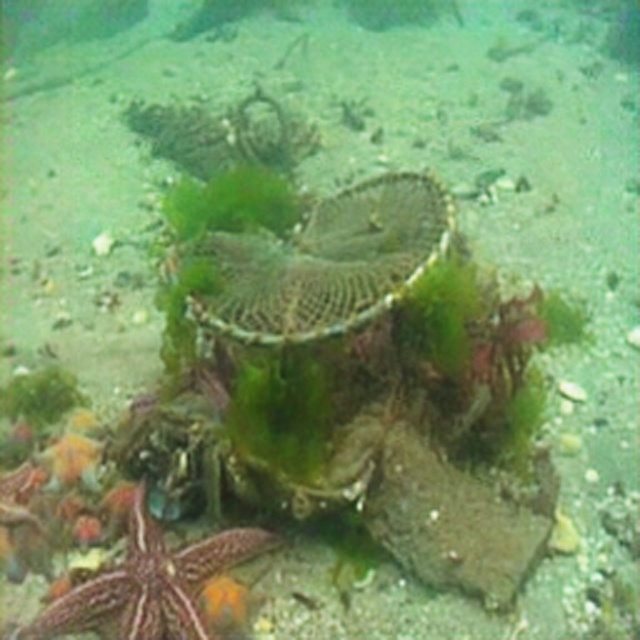mine: (155, 165, 456, 433)
